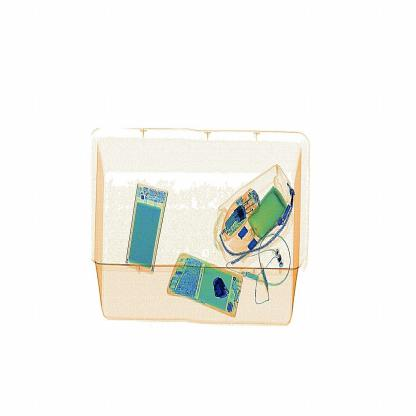scissors: (207, 270, 234, 304)
